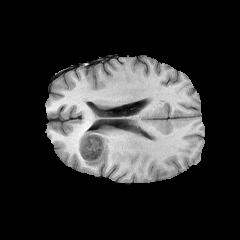glioma: (77, 128, 109, 167)
